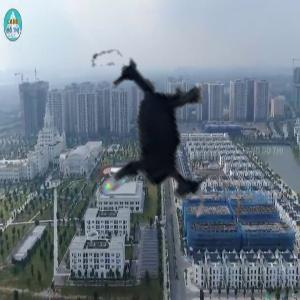drone: (41, 31, 259, 249)
